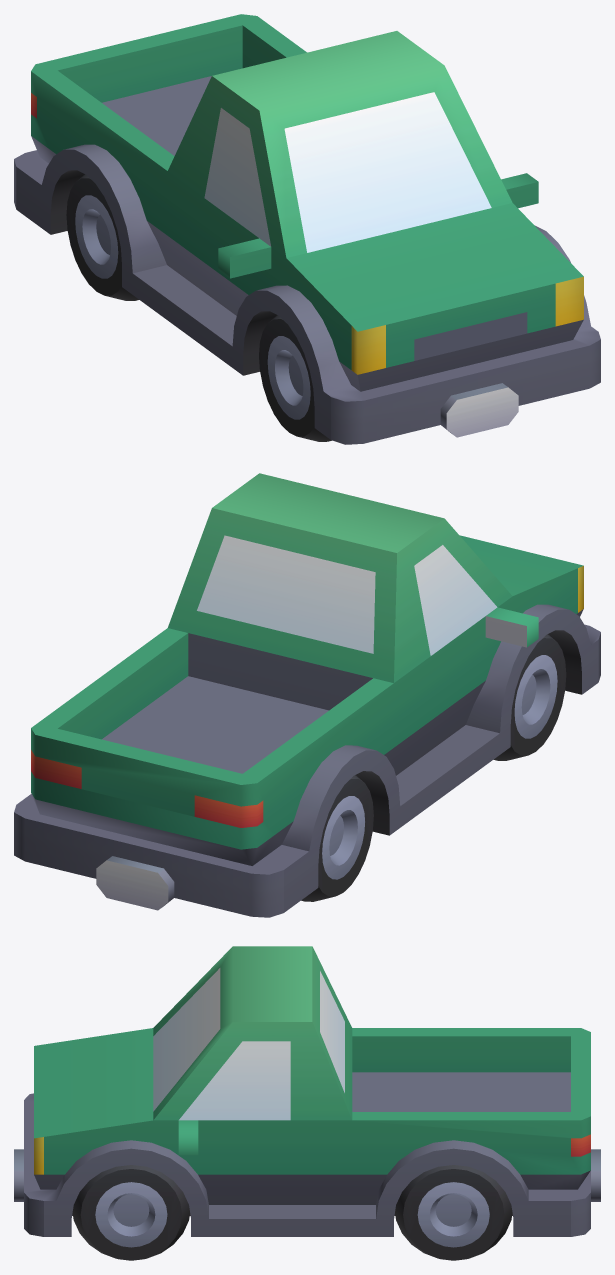
The model's file is truck.glb.
3 renders of one model, top to bottom at view 1: azimuth 30°, elevation 25°; view 2: azimuth 150°, elevation 25°; view 3: azimuth 270°, elevation 25°, orthographic. The views are drawn at different scales.
Parts seen in each view (by area): view 1: body; view 2: body; view 3: body.
Boxes of the visible parts, bbox=[...] form: body: bbox=[14, 14, 600, 444]; body: bbox=[14, 473, 600, 917]; body: bbox=[14, 946, 600, 1260].
Size of the model in its own units: 1.5 by 1.3 by 2.95.
Materials: 1 (1 with a texture image).
